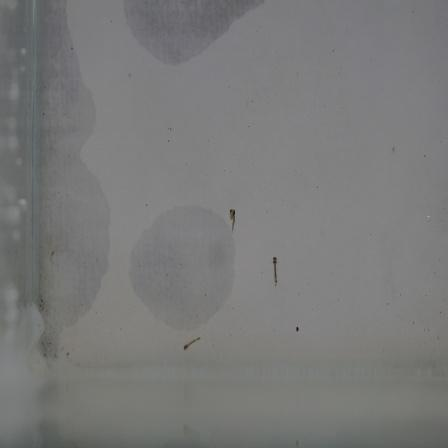Jentik-Nyamuk: (268, 251, 283, 287), (183, 333, 205, 355), (226, 205, 240, 235)
